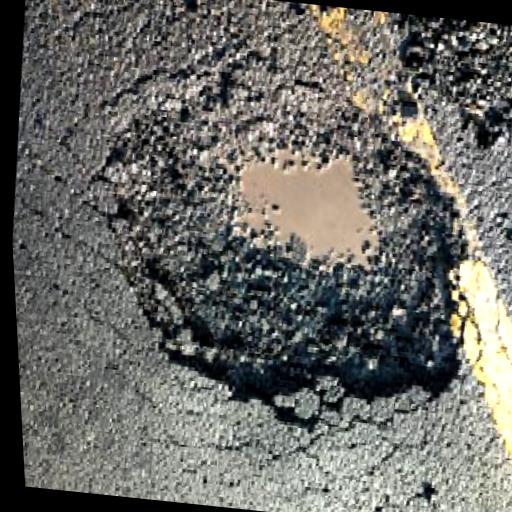pothole: (65, 38, 501, 454)
